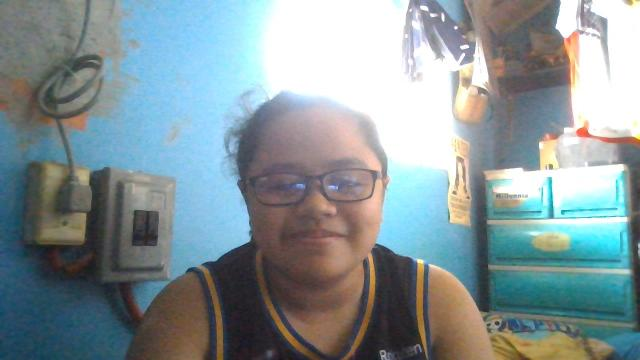senang: (243, 101, 387, 282)
